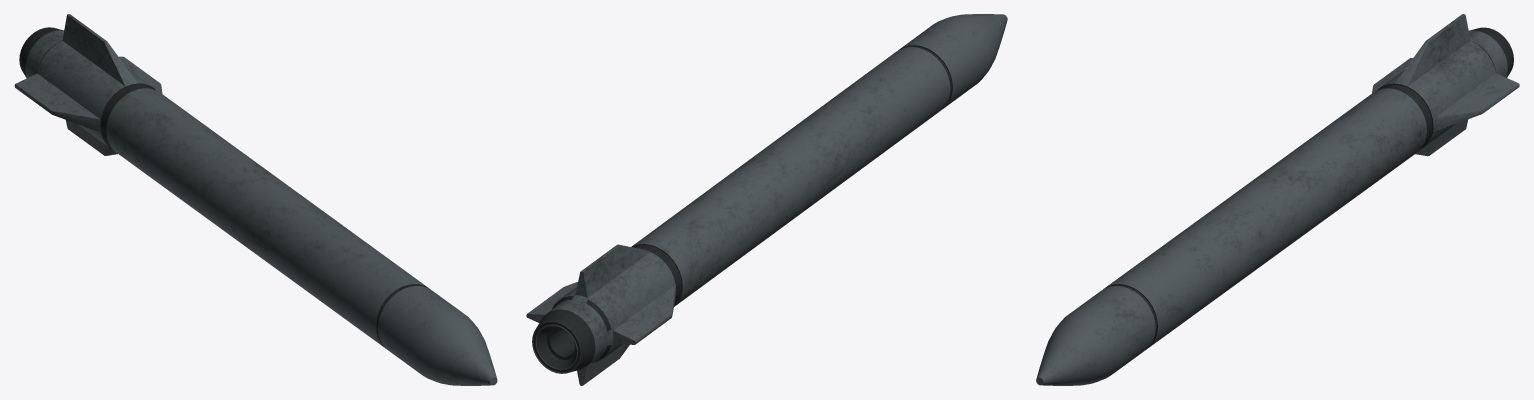
File: SAMs3 Missile.fbx
3 renders of one model, left to right at view 1: azimuth 30°, elevation 25°; view 2: azimuth 150°, elevation 25°; view 3: azimuth 330°, elevation 25°, orthographic.
Parts seen in each view (by area): view 1: Cylinder.003; view 2: Cylinder.003; view 3: Cylinder.003.
Boxes of the visible parts, <box> form: Cylinder.003: <box>14,14,497,385</box>; Cylinder.003: <box>526,14,1007,385</box>; Cylinder.003: <box>1036,14,1519,385</box>.
Bounding box in the file's own units: 175 × 175 × 1241.
1 material, 1 textured.
